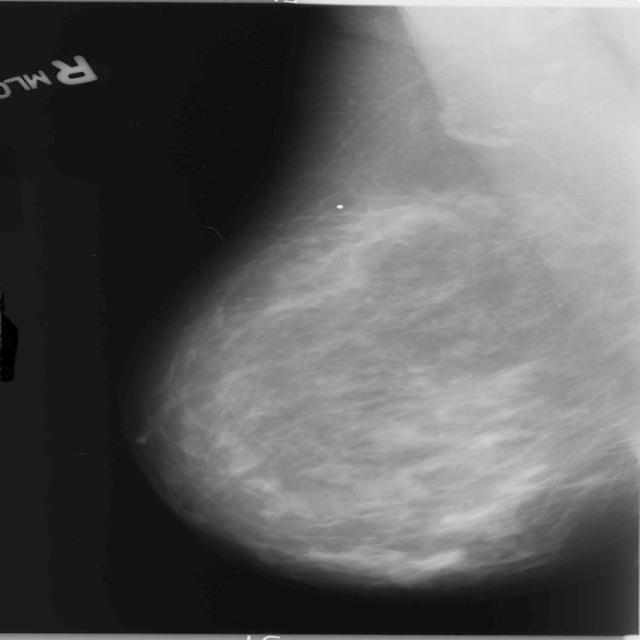tumour: (327, 200, 444, 249)
